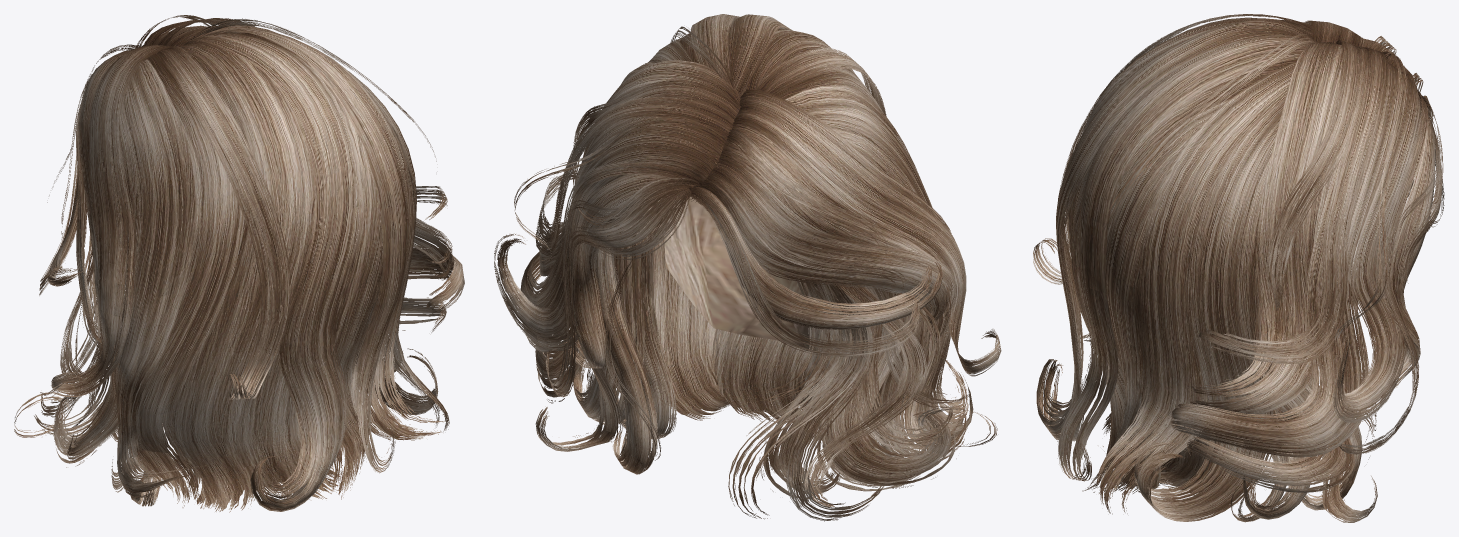
Rendered from hairheroine.fbx.
The picture shows the model from 3 angles, left to right: view 1: azimuth 30°, elevation 25°; view 2: azimuth 150°, elevation 25°; view 3: azimuth 270°, elevation 25°; orthographic projection. The views are drawn at different scales.
Visible parts, largest first — view 1: newsea sims2 hair j09; view 2: newsea sims2 hair j09; view 3: newsea sims2 hair j09.
Part boxes in pixels (x1,y1,x2,y2): newsea sims2 hair j09: (14, 15, 464, 512); newsea sims2 hair j09: (494, 14, 1001, 521); newsea sims2 hair j09: (1033, 14, 1444, 522).
Bounding box in the file's own units: 25.72 × 23.47 × 19.31.
